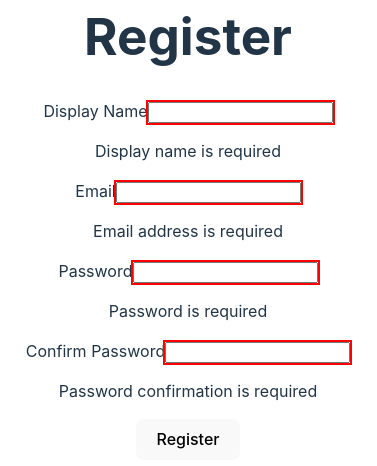
Test: <Register> › Confirm Password Input › Hides error labels when fields filled out
The image size is (377, 466).
// Like a user typing into the display name input
Type "testpassword" into the password field labelled "Confirm Password".
click(258, 352); type("testpassword")  # box left=165, top=342, right=350, bottom=363
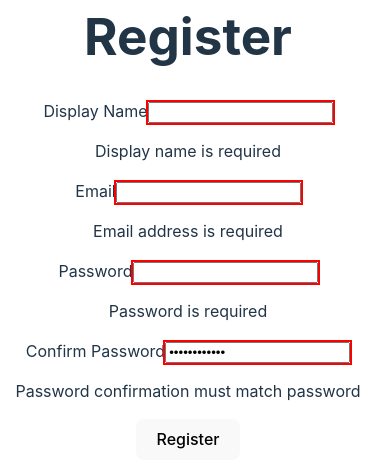
Now the text "Password confirmation is required" is gone
